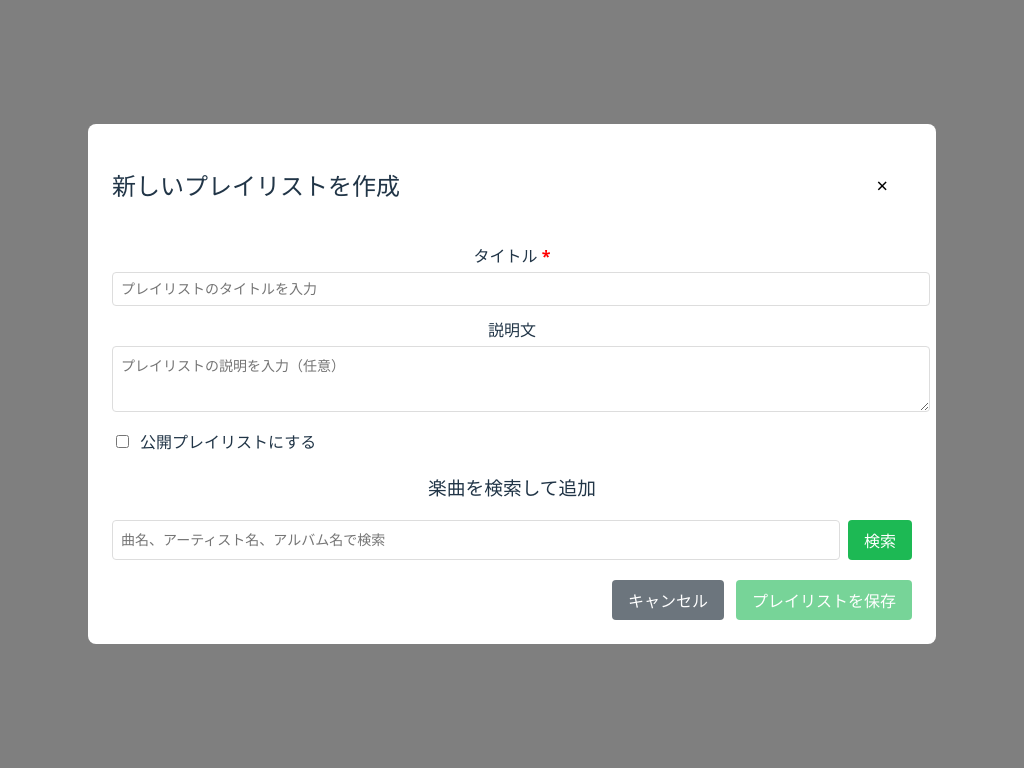
Scenario: CreatePlaylistModal › 表示・開閉 › 「キャンセル」ボタンで閉じると、作成せずに入力内容をリセットする
This screenshot has width=1024, height=768.
Type "ドライブ用" into the field with placeholder "プレイリストのタイトルを入力" at (521, 288), box x1=112 y1=272 x2=930 y2=306
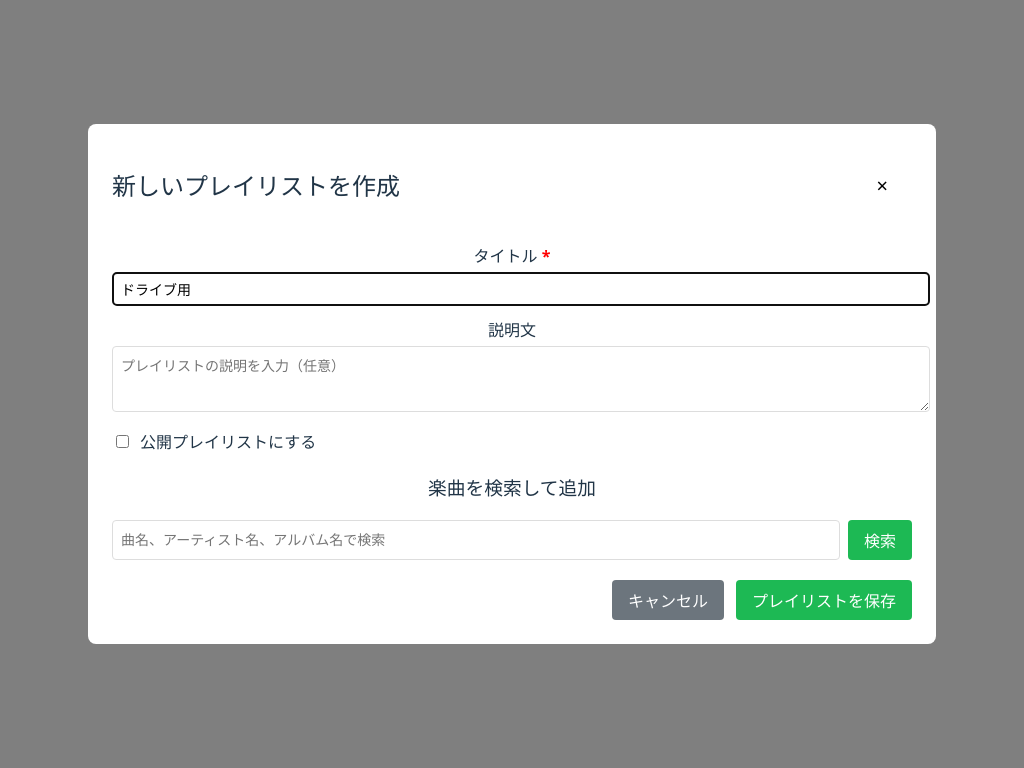
Type "週末に聴く曲" into the text box with placeholder "プレイリストの説明を入力（任意）" at (521, 378), box x1=112 y1=346 x2=930 y2=412
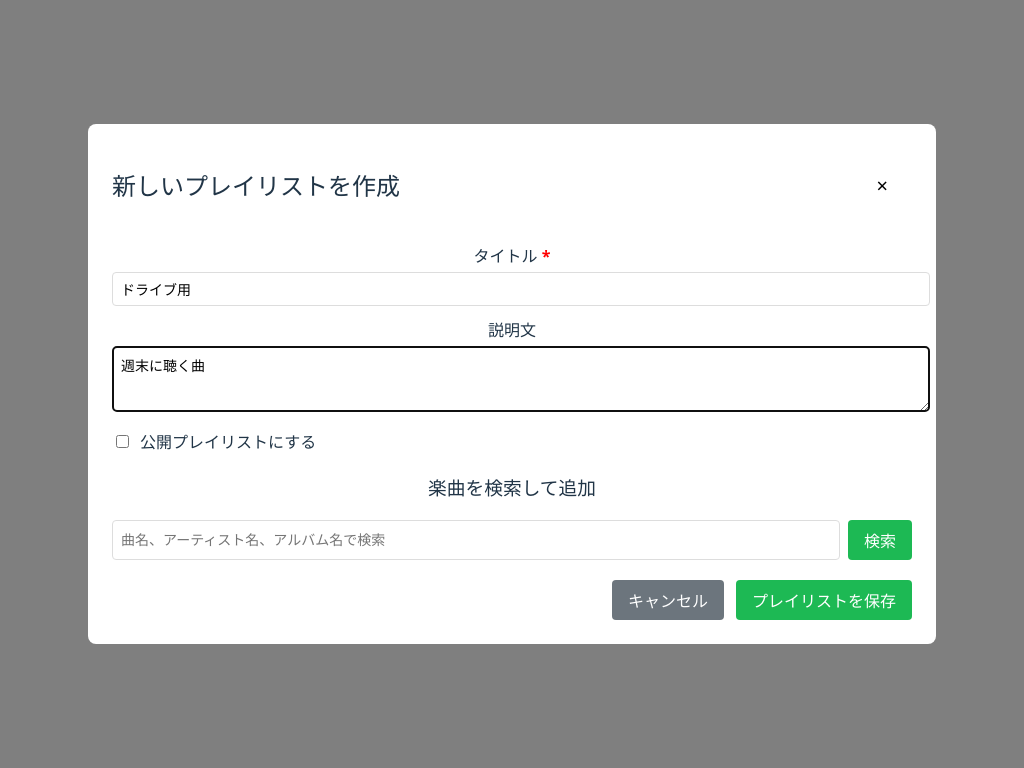
Click the checkbox labelled "公開プレイリストにする" at (122, 442), box x1=116 y1=435 x2=129 y2=448
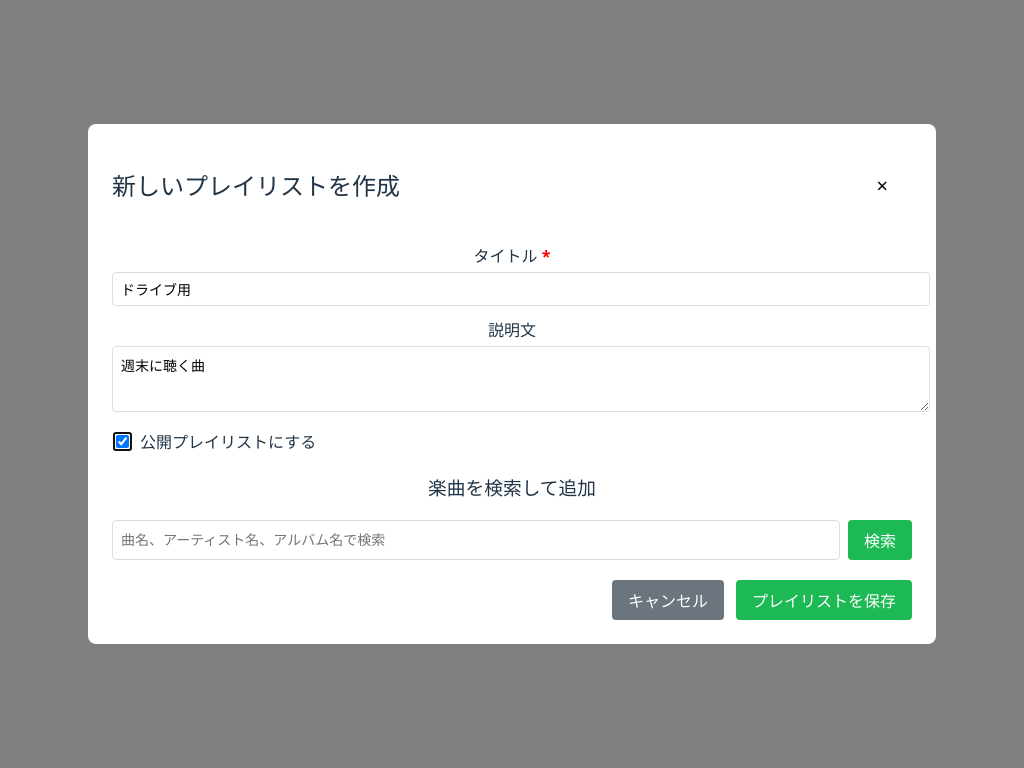
Type "ドライブ" into the field with placeholder "曲名、アーティスト名、アルバム名で検索" at (476, 540), box x1=112 y1=520 x2=840 y2=560
Click the button "検索" at (880, 540), box x1=848 y1=520 x2=912 y2=560
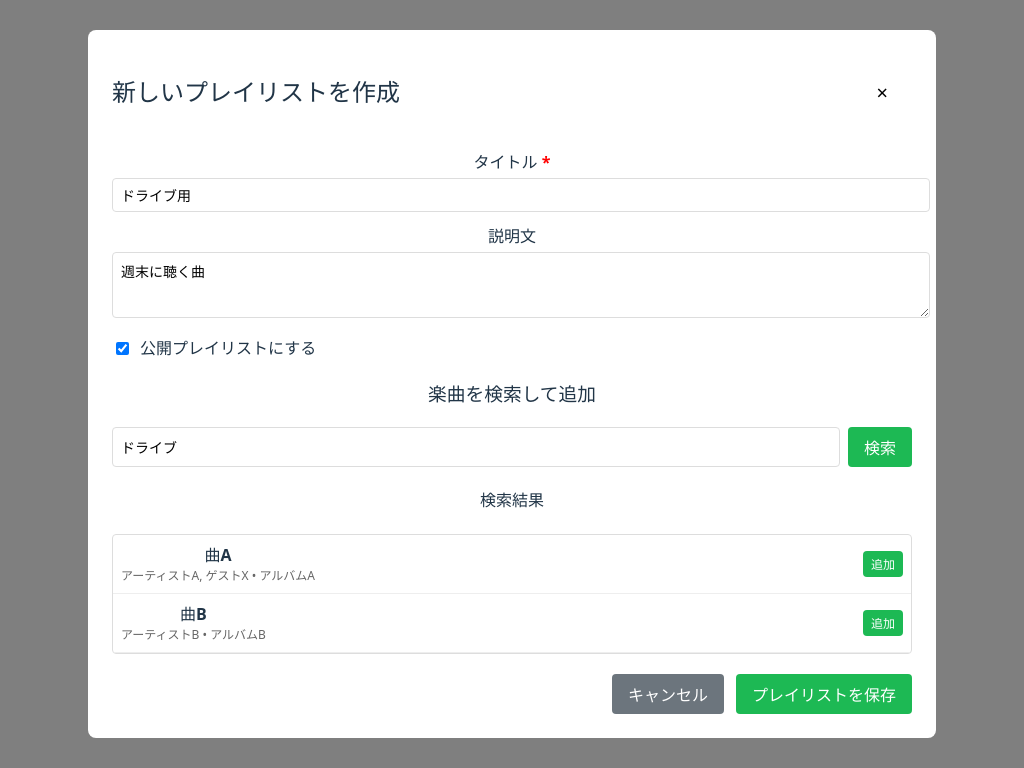
Expected: the button "検索" is shown, x1=848 y1=427 x2=912 y2=467
Click the button "追加" in the row of "アルバムA" at (883, 564), box x1=863 y1=551 x2=903 y2=577
(page scrolled)
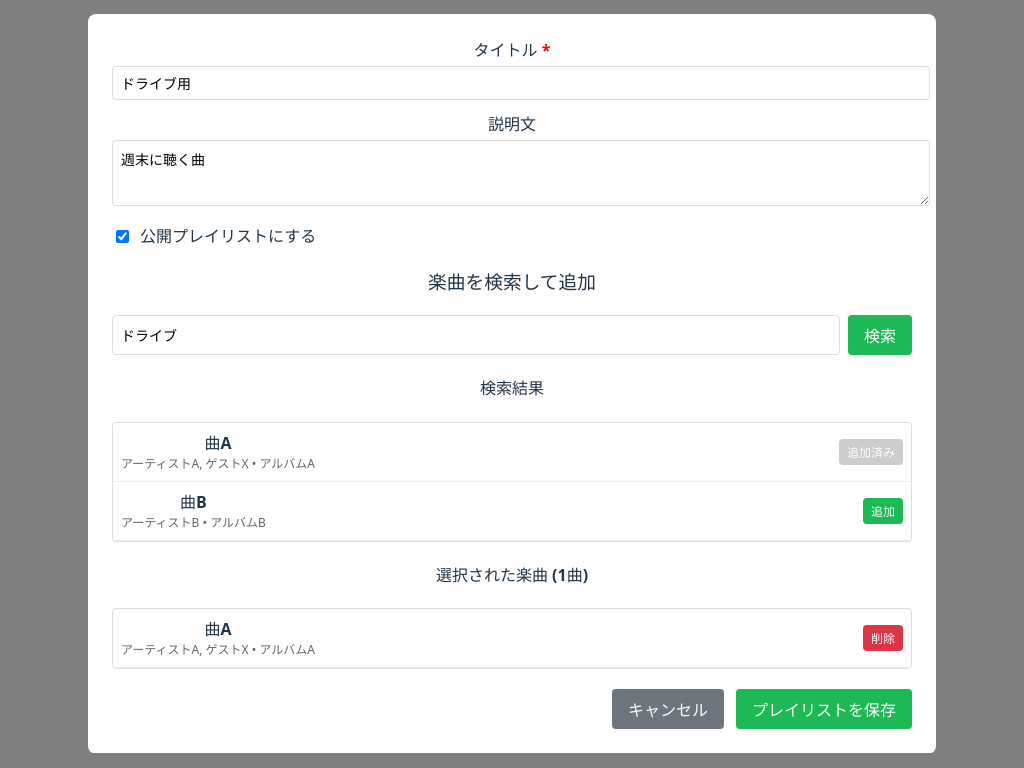
Click the button "キャンセル" at (668, 709), box x1=612 y1=689 x2=724 y2=729
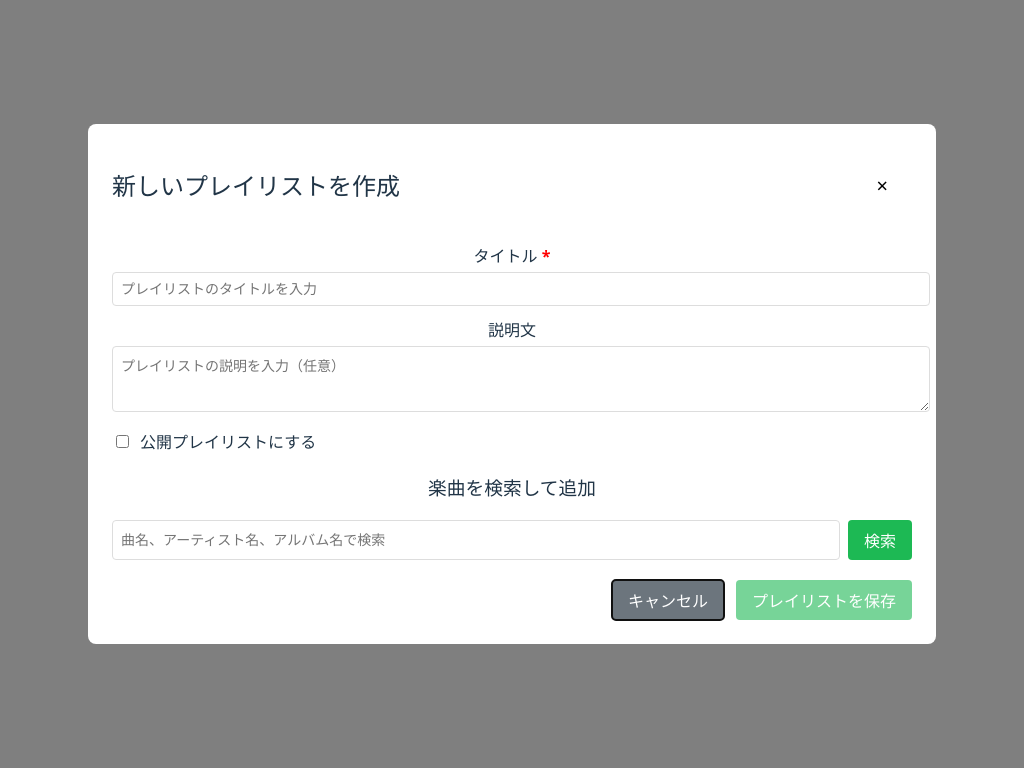
Result: the checkbox labelled "公開プレイリストにする" is not checked at x1=116 y1=435 x2=129 y2=448
Result: the field with placeholder "プレイリストのタイトルを入力" is empty at x1=112 y1=272 x2=930 y2=306
Result: the text box with placeholder "プレイリストの説明を入力（任意）" is empty at x1=112 y1=346 x2=930 y2=412
